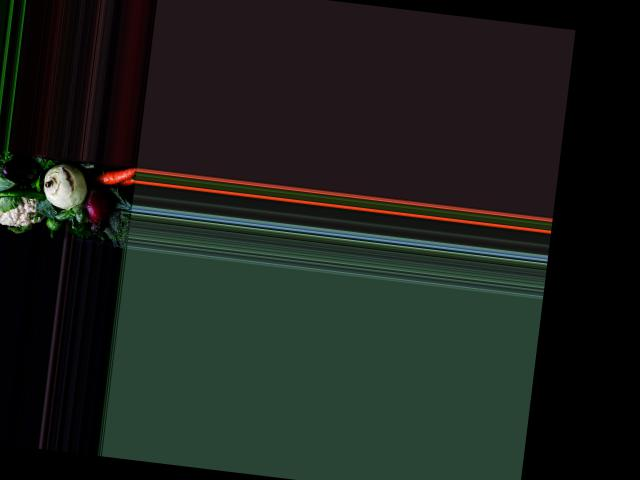carrot: (94, 161, 138, 194)
